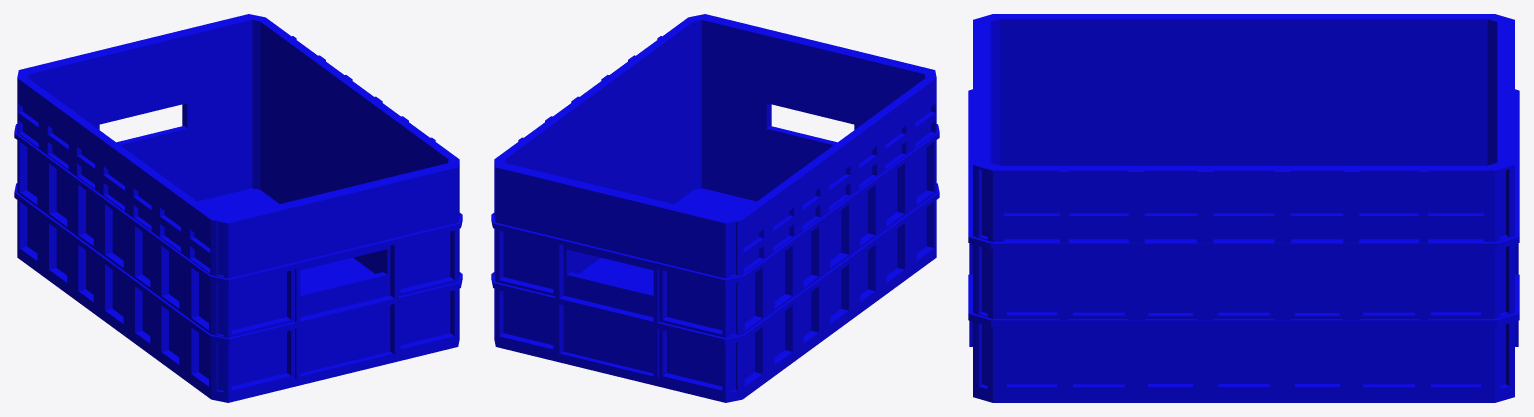
The model's file is BoxContainer.fbx.
The picture shows the model from 3 angles, left to right: view 1: azimuth 30°, elevation 25°; view 2: azimuth 150°, elevation 25°; view 3: azimuth 270°, elevation 25°; orthographic projection. The views are drawn at different scales.
Parts seen in each view (by area): view 1: Cube; view 2: Cube; view 3: Cube.
Part boxes in pixels (<box>): Cube: <box>14,14,462,402</box>; Cube: <box>491,14,939,402</box>; Cube: <box>968,14,1519,402</box>.
Size of the model in its own units: 71.34 by 48.36 by 104.
